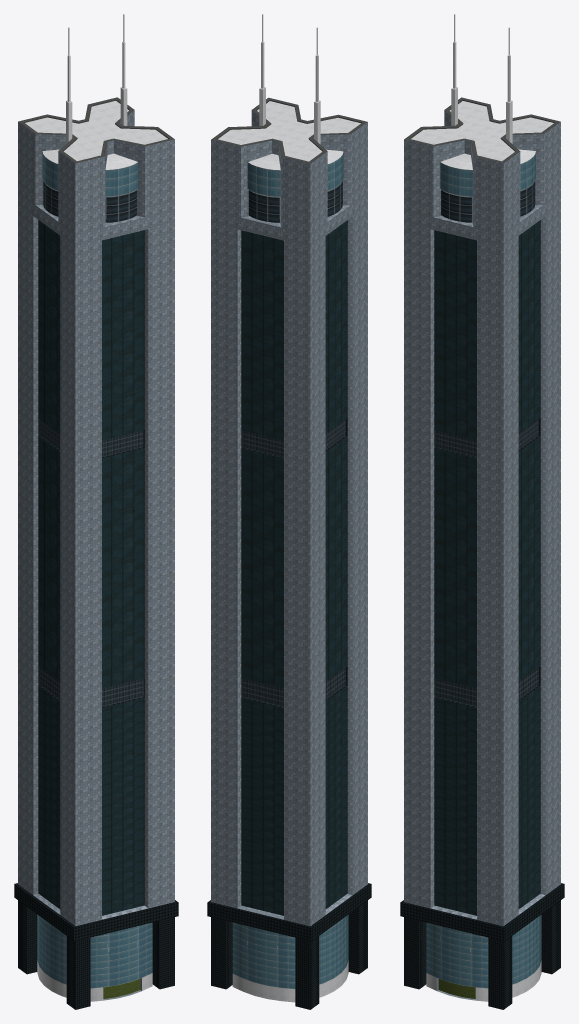
Rendered from Tower10.FBX.
3 views of the same model, side by side, from view 1: azimuth 30°, elevation 25°; view 2: azimuth 150°, elevation 25°; view 3: azimuth 330°, elevation 25° (orthographic).
Visible parts, largest first — view 1: Tower; view 2: Tower; view 3: Tower.
Part boxes in pixels (x1=…): Tower: x1=14, y1=14, x2=178, y2=1009; Tower: x1=207, y1=14, x2=371, y2=1009; Tower: x1=400, y1=14, x2=564, y2=1009.
Size of what is drawn, in the model's own units: 41.27 by 362 by 41.27.
